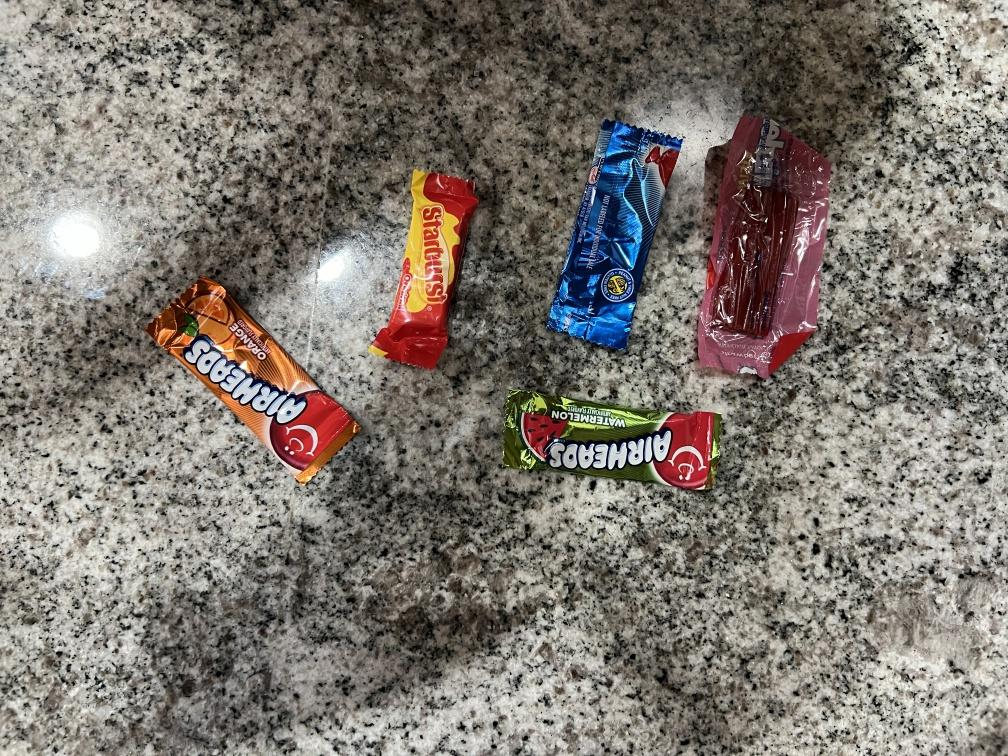airheads: (144, 276, 364, 485), (546, 118, 683, 352), (507, 390, 725, 490)
starburst: (367, 168, 486, 371)
twizzlers: (691, 114, 828, 379)
